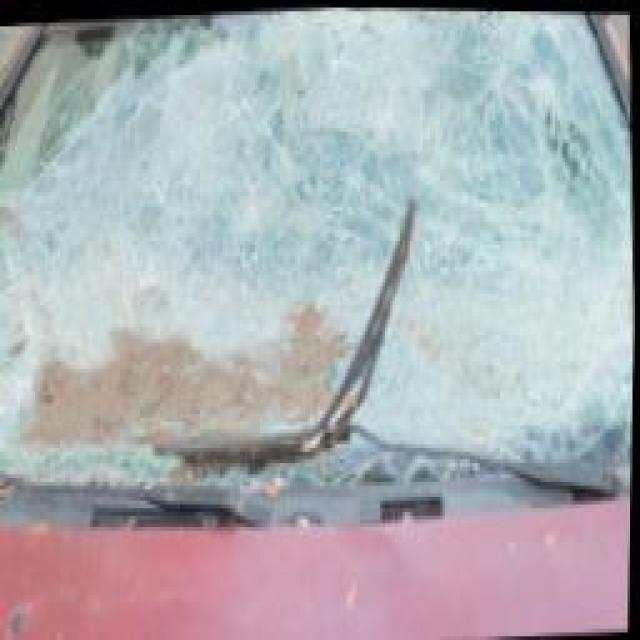Windshield: (0, 0, 640, 523)
